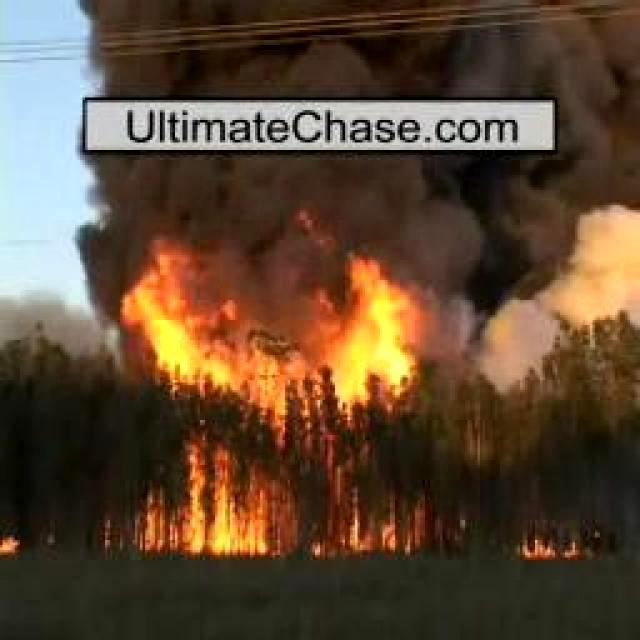fire: (139, 248, 417, 556), (516, 532, 588, 556), (3, 533, 19, 555)
